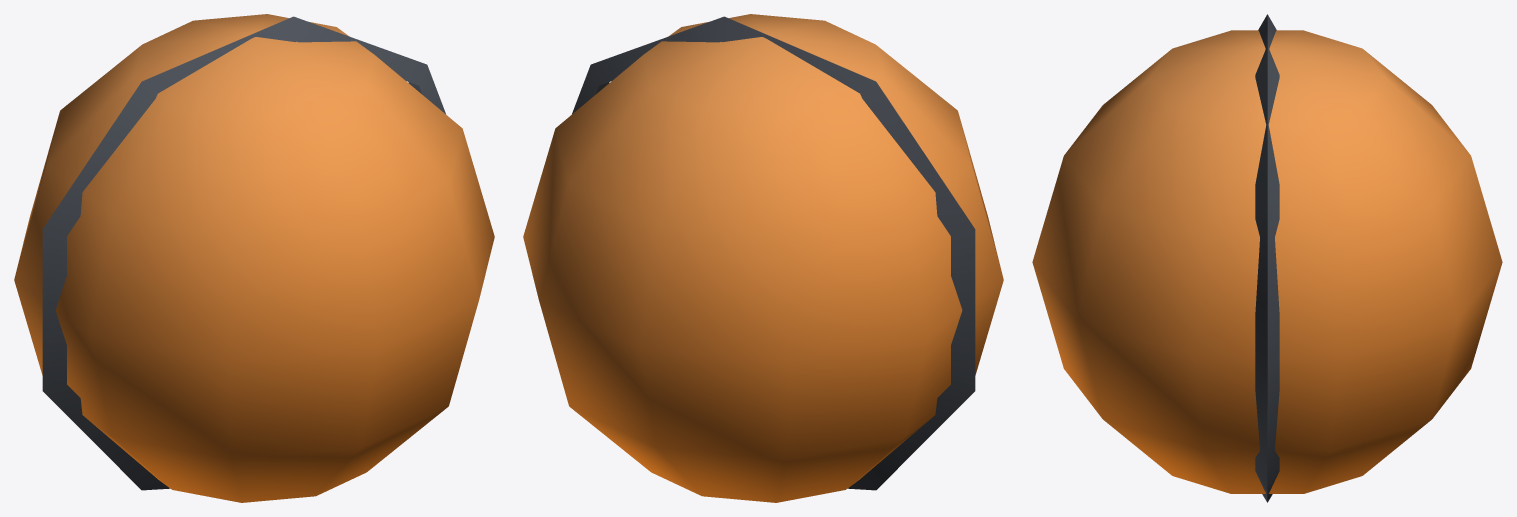
File: dt_basketball.fbx
3 views of the same model, side by side, from view 1: azimuth 30°, elevation 25°; view 2: azimuth 150°, elevation 25°; view 3: azimuth 270°, elevation 25° (orthographic). The views are drawn at different scales.
Parts seen in each view (by area): view 1: dt_basketball; view 2: dt_basketball; view 3: dt_basketball.
Boxes of the visible parts, <box> form: dt_basketball: <box>14,14,494,502</box>; dt_basketball: <box>523,14,1003,502</box>; dt_basketball: <box>1032,14,1502,502</box>.
Size of the model in its own units: 98.48 by 100 by 95.79.
